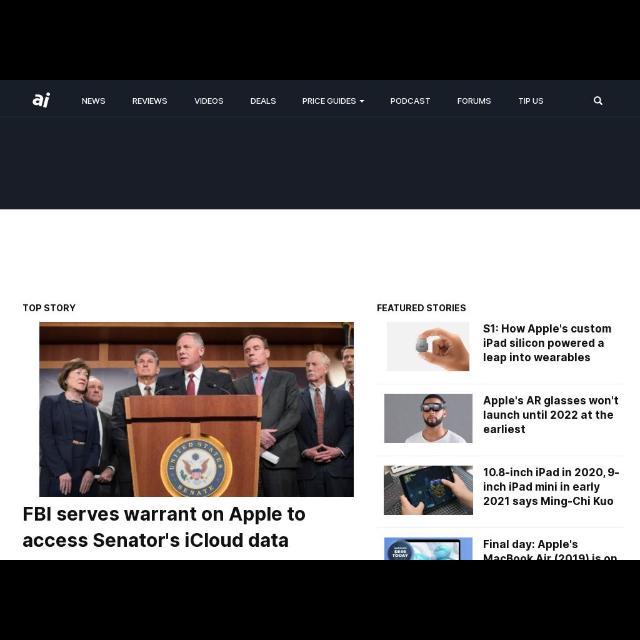icon: (31, 89, 53, 111), (592, 94, 604, 106), (360, 98, 366, 104)
image: (39, 322, 354, 498), (384, 394, 474, 444), (383, 465, 473, 515), (384, 322, 471, 371), (384, 537, 472, 559)
spinner: (300, 94, 368, 106)
text: (20, 503, 308, 549), (481, 464, 623, 508), (481, 394, 621, 436), (482, 323, 614, 362), (482, 537, 618, 559), (377, 302, 468, 312), (22, 301, 78, 313), (391, 96, 432, 104), (302, 98, 356, 104), (132, 96, 168, 104), (456, 97, 492, 105), (192, 96, 225, 104), (82, 95, 106, 105), (248, 96, 278, 104), (518, 96, 544, 104)
toolbar: (1, 81, 638, 117)
